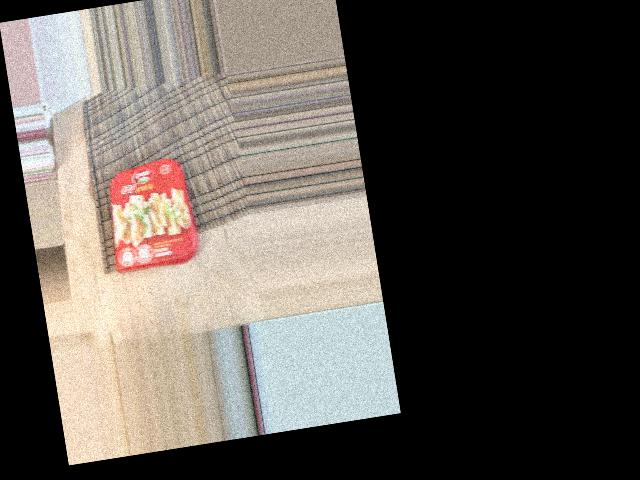cheese: (102, 156, 197, 281)
